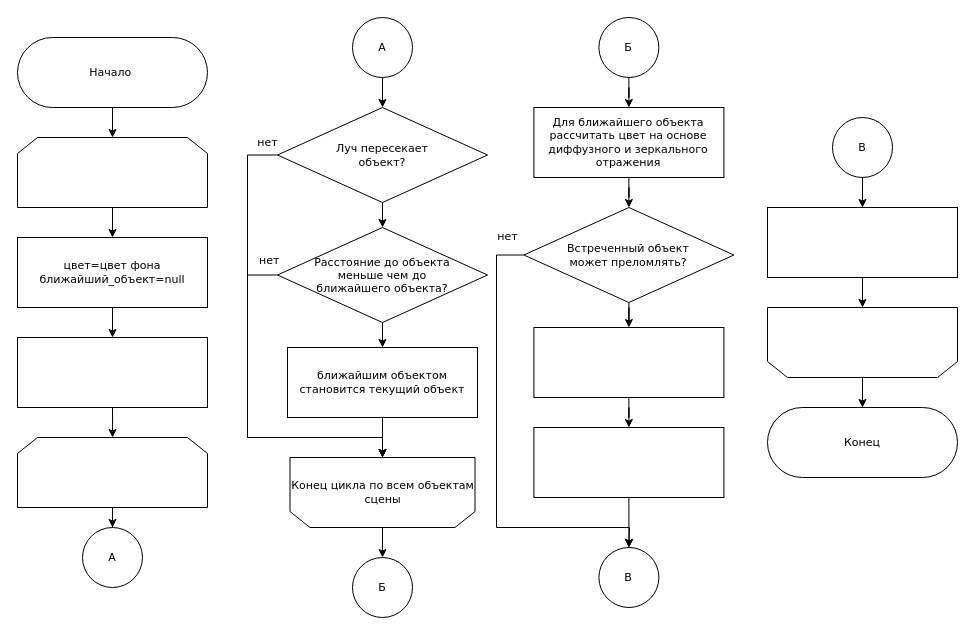
Some shapes in this 975 by 635 pixel diagram are drawn without their labels. The centre of each missing label's shape, as x and y in pixels:
"Выпустить луч из камеры через окно просмотра" belongs at (112,372).
"Выпустить преломленный луч" belongs at (628,362).
"Закрасить пиксель полученным цветом" belongs at (862,242).
"Конец цикла по всем пикселям изображения" belongs at (862,342).
"Перерассчитать цвет с учетом преломленной составляющей" belongs at (628,462).
"Цикл по всем пикселям изображения" belongs at (112,172).
"Цкил по всем объектам сцены" belongs at (112,472).
